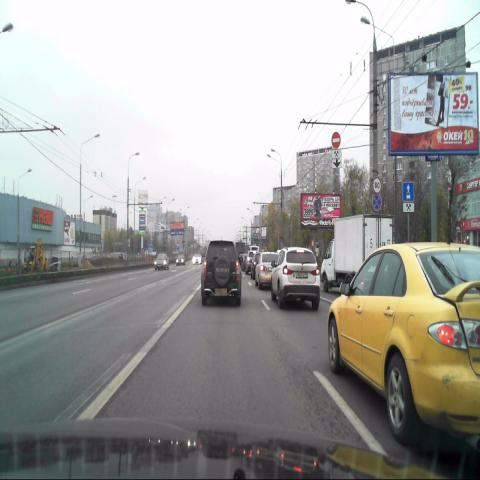5_14: (402, 182, 414, 202)
